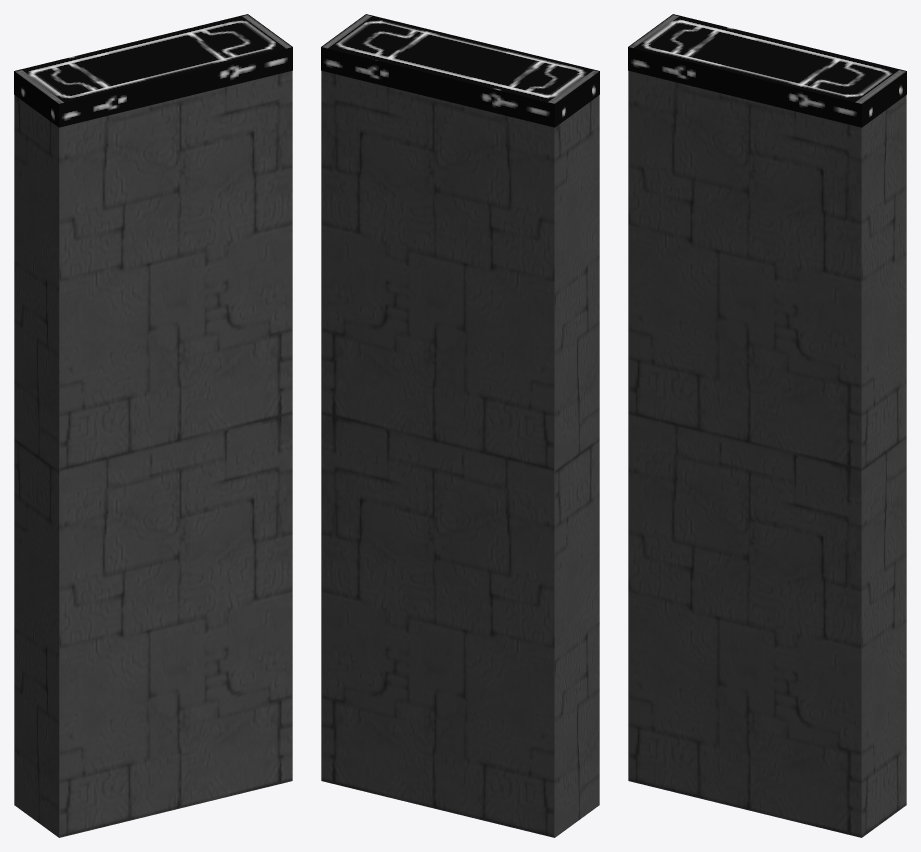
The model's file is lv8_stepx.dae.
3 renders of one model, left to right at view 1: azimuth 30°, elevation 25°; view 2: azimuth 150°, elevation 25°; view 3: azimuth 330°, elevation 25°, orthographic.
Visible parts, largest first — view 1: Shape 1, Shape 0; view 2: Shape 1, Shape 0; view 3: Shape 1, Shape 0.
Boxes of the visible parts, box(x1,y1,x2,y2) form: Shape 1: box(14, 14, 292, 837); Shape 0: box(14, 14, 292, 127); Shape 1: box(321, 14, 599, 837); Shape 0: box(321, 14, 599, 127); Shape 1: box(628, 14, 906, 837); Shape 0: box(628, 14, 906, 127).
Bounding box in the file's own units: 450 × 1350 × 150.
Materials: 2 (2 with a texture image).
